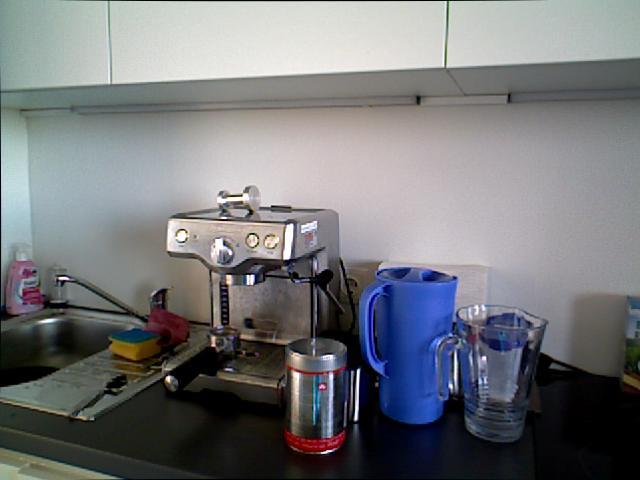bench: (5, 240, 47, 314)
couch: (0, 307, 145, 388)
handbag: (358, 265, 459, 424), (445, 303, 548, 443)
toilet: (71, 376, 131, 418)
